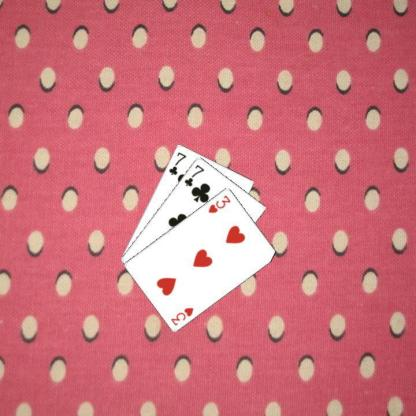3H: (168, 304, 195, 326), (206, 192, 232, 214)
7C: (182, 162, 205, 188), (166, 149, 188, 176)
